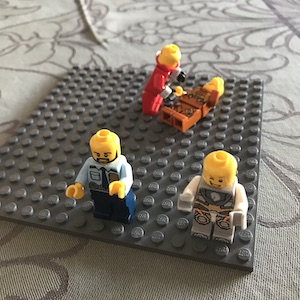Lego: (179, 149, 249, 244), (72, 127, 135, 226), (160, 76, 227, 131), (136, 43, 184, 115)
